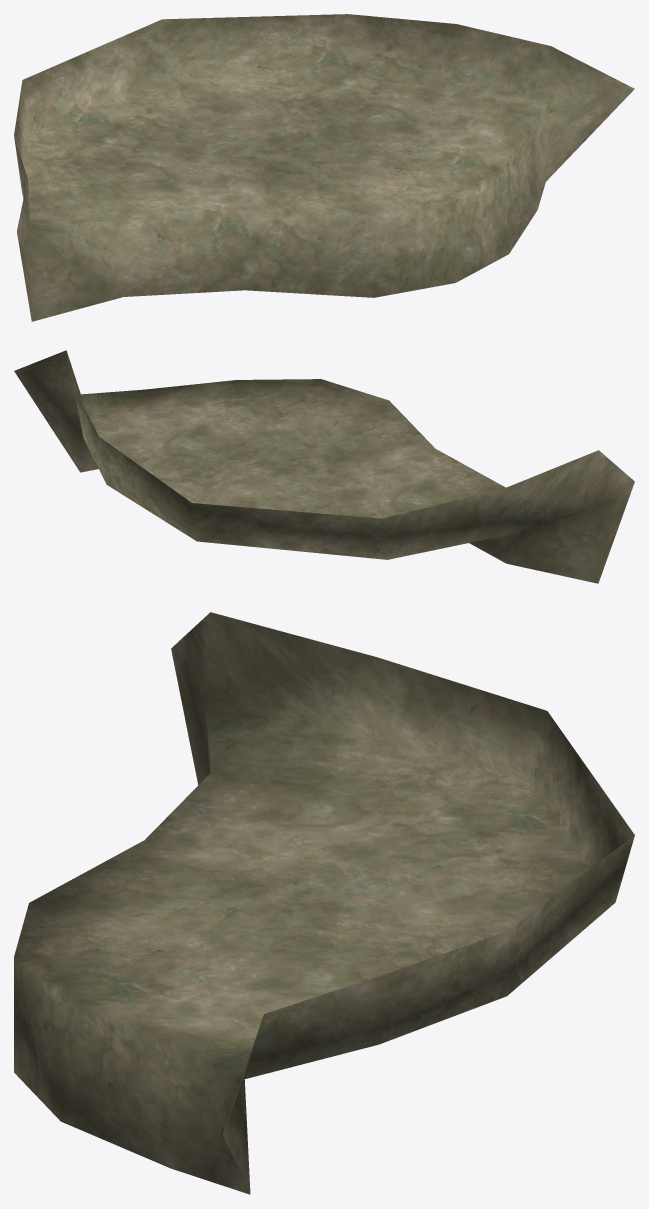
Rendered from EKH_GROTTO_PS_GR_OBJECT01.fbx.
The picture shows the model from 3 angles, top to bottom: view 1: azimuth 30°, elevation 25°; view 2: azimuth 150°, elevation 25°; view 3: azimuth 270°, elevation 25°; orthographic projection. The views are drawn at different scales.
Parts seen in each view (by area): view 1: EKH_GROTTO_PS_GR_OBJECT01; view 2: EKH_GROTTO_PS_GR_OBJECT01; view 3: EKH_GROTTO_PS_GR_OBJECT01.
Part boxes in pixels (x1,y1,x2,y2): EKH_GROTTO_PS_GR_OBJECT01: (14, 14, 634, 321); EKH_GROTTO_PS_GR_OBJECT01: (14, 350, 634, 583); EKH_GROTTO_PS_GR_OBJECT01: (14, 612, 634, 1194).
Bounding box in the file's own units: 53256 × 11471 × 31145.
1 material, 1 textured.
